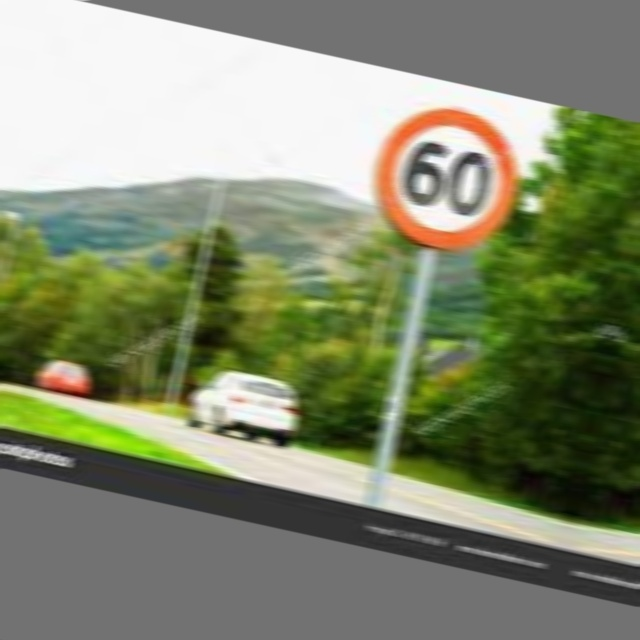Speed_Limit_60: (362, 90, 530, 260)
